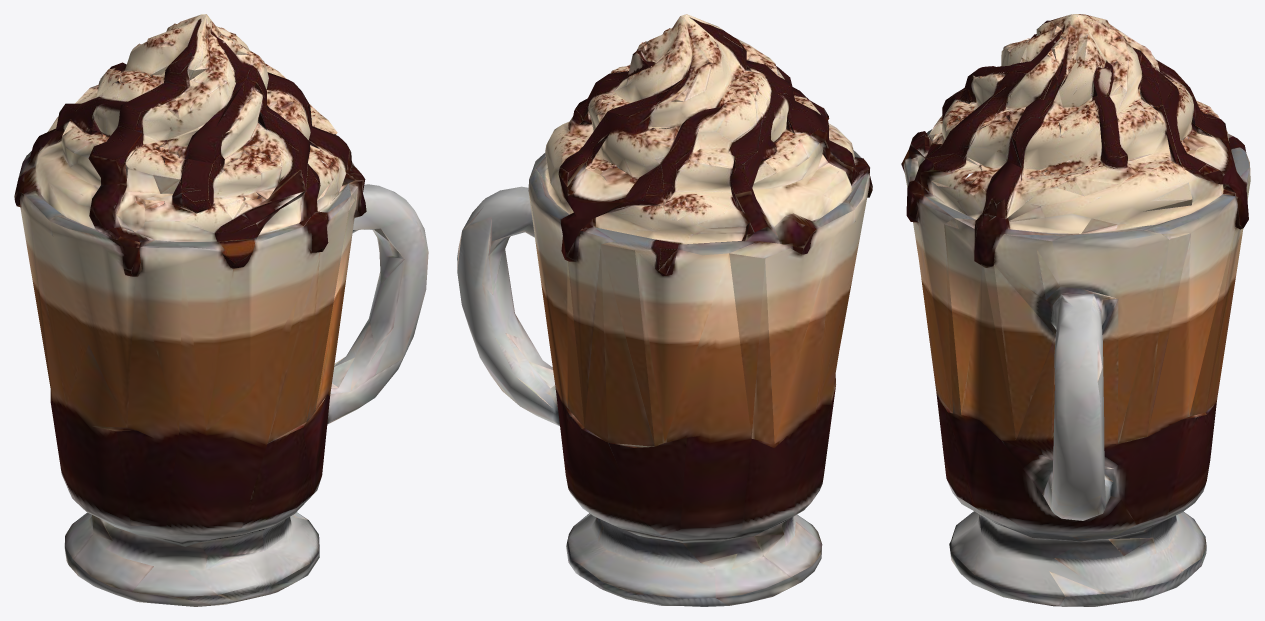
Rendered from cup_mocha.gltf.
The picture shows the model from 3 angles, left to right: view 1: azimuth 30°, elevation 25°; view 2: azimuth 150°, elevation 25°; view 3: azimuth 270°, elevation 25°; orthographic projection.
Parts seen in each view (by area): view 1: cup_mocha; view 2: cup_mocha; view 3: cup_mocha.
Part boxes in pixels (x1,y1,x2,y2): cup_mocha: (14,14,428,606); cup_mocha: (457,14,872,606); cup_mocha: (901,14,1250,606).
Bounding box in the file's own units: 0.742 × 1 × 0.5802.
Materials: 1 (1 with a texture image).
